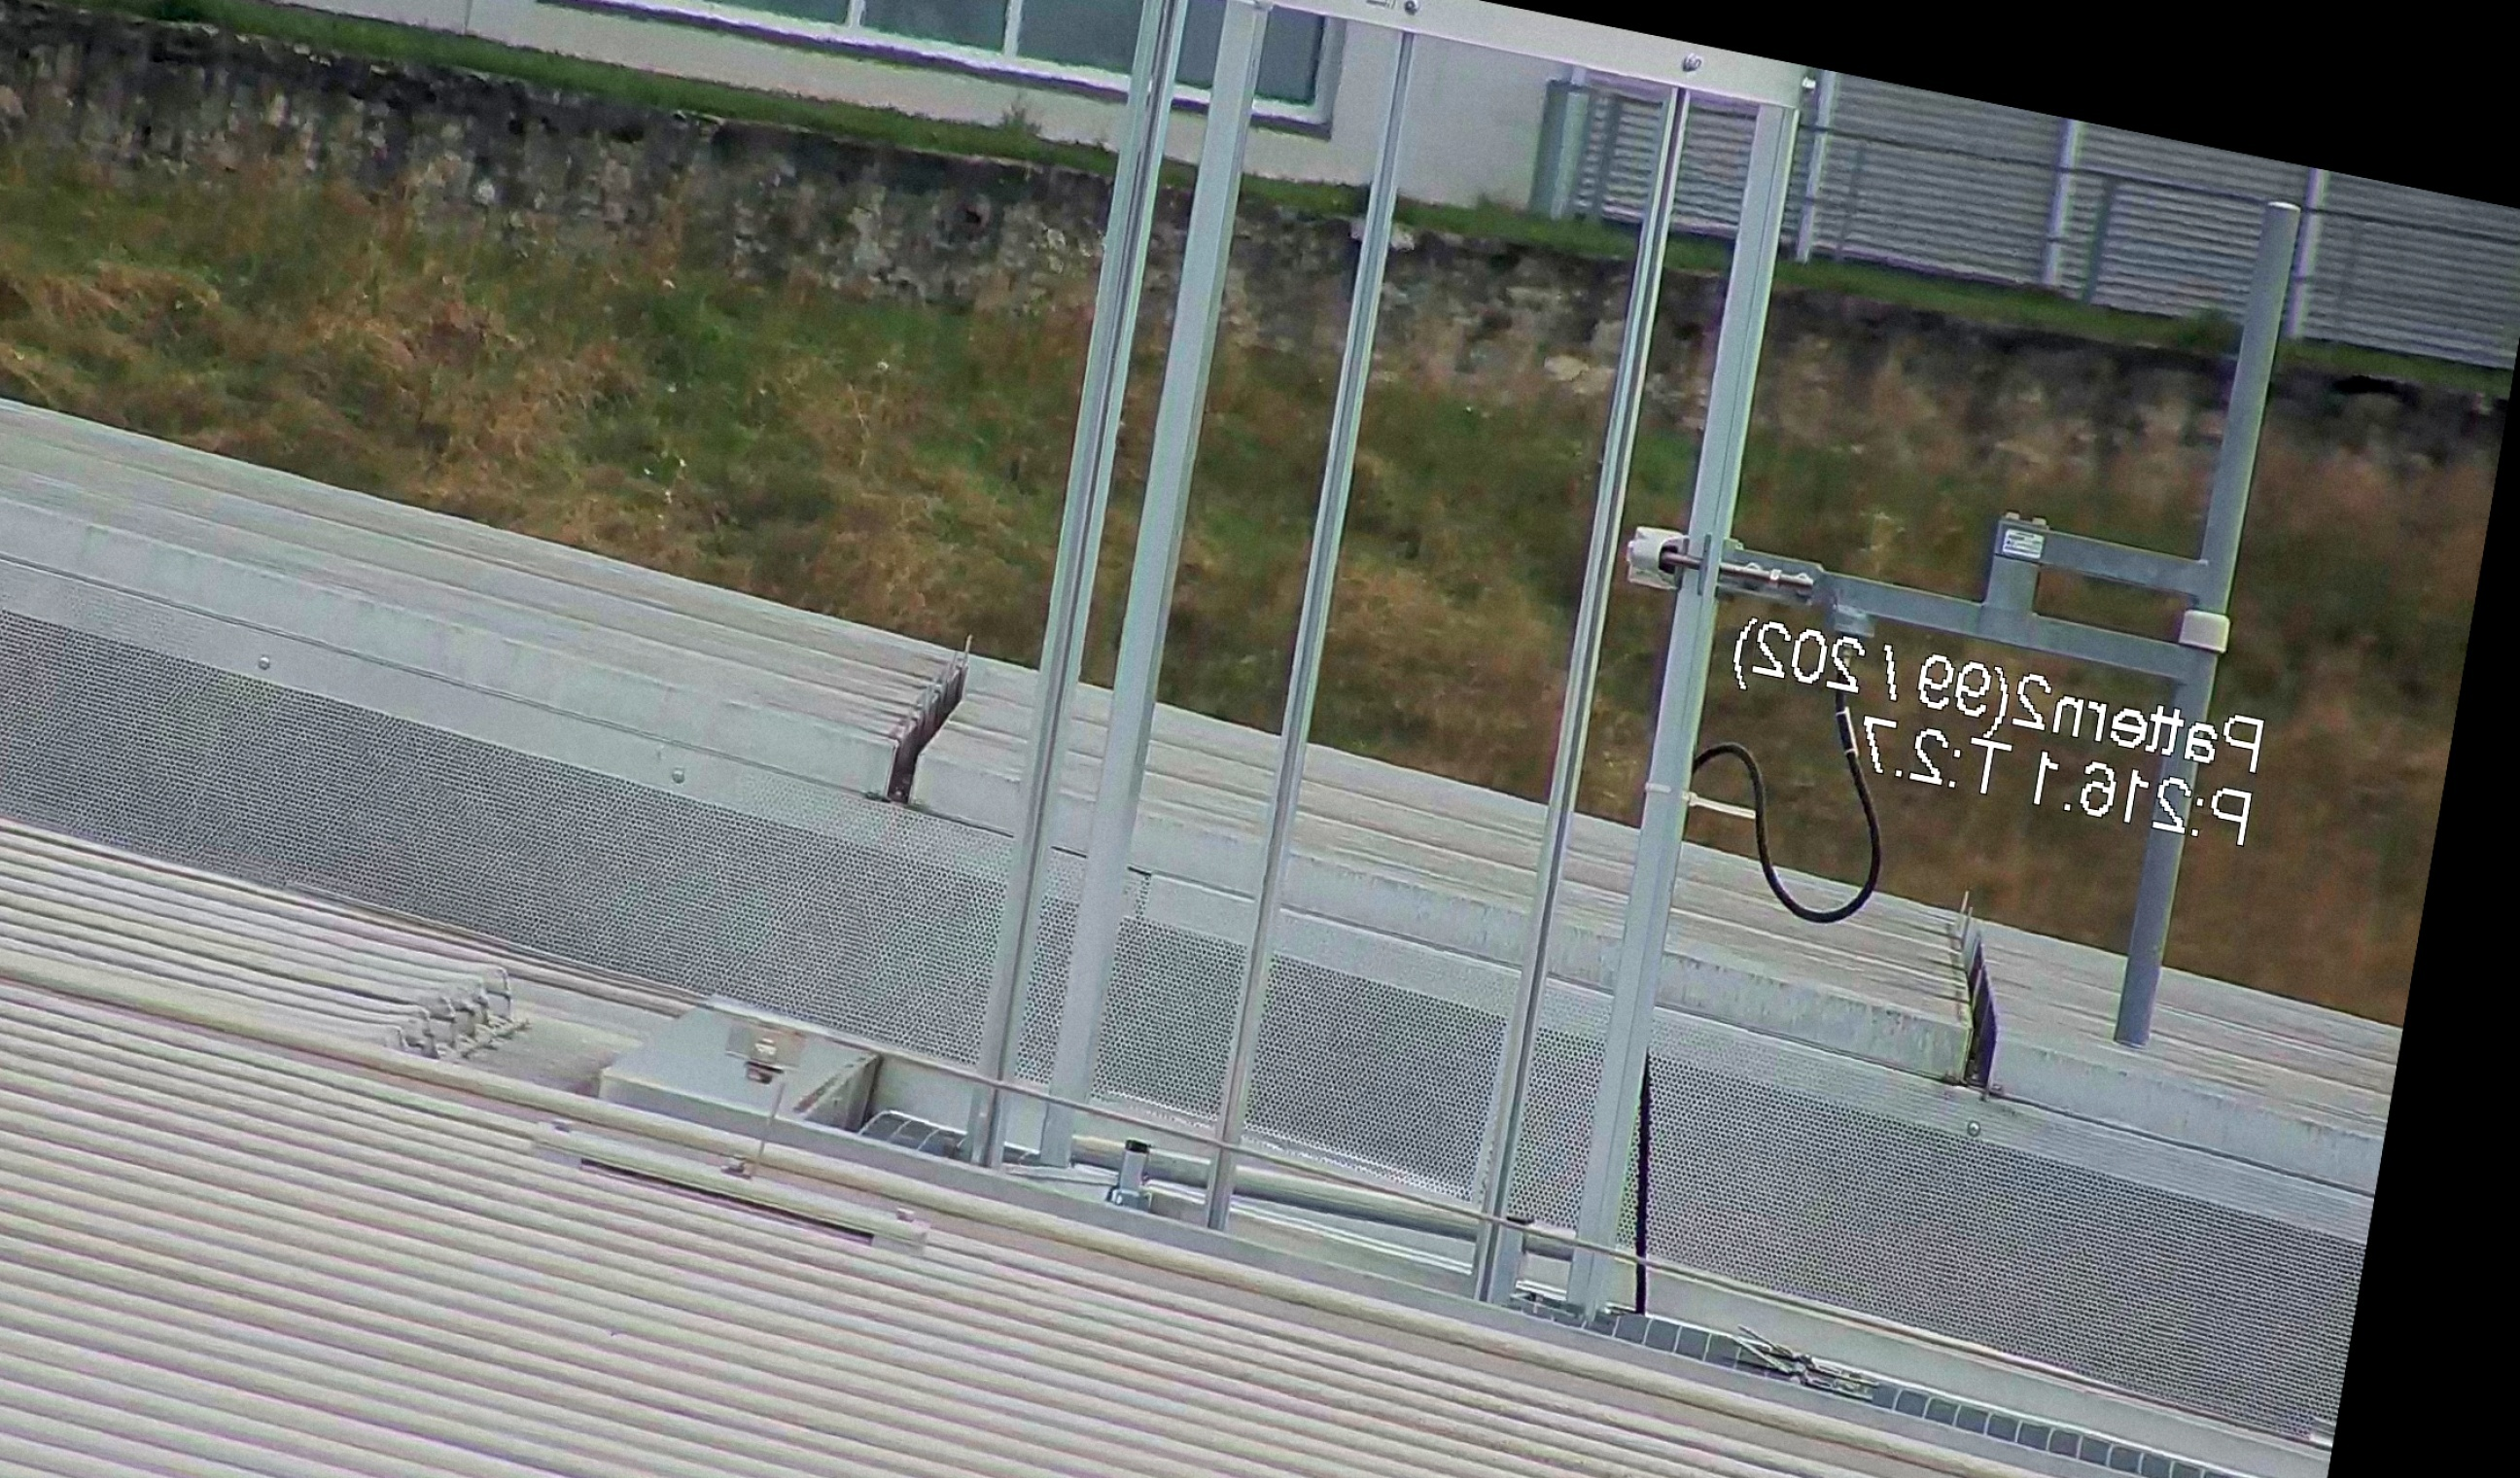Other: (853, 618, 999, 832)
